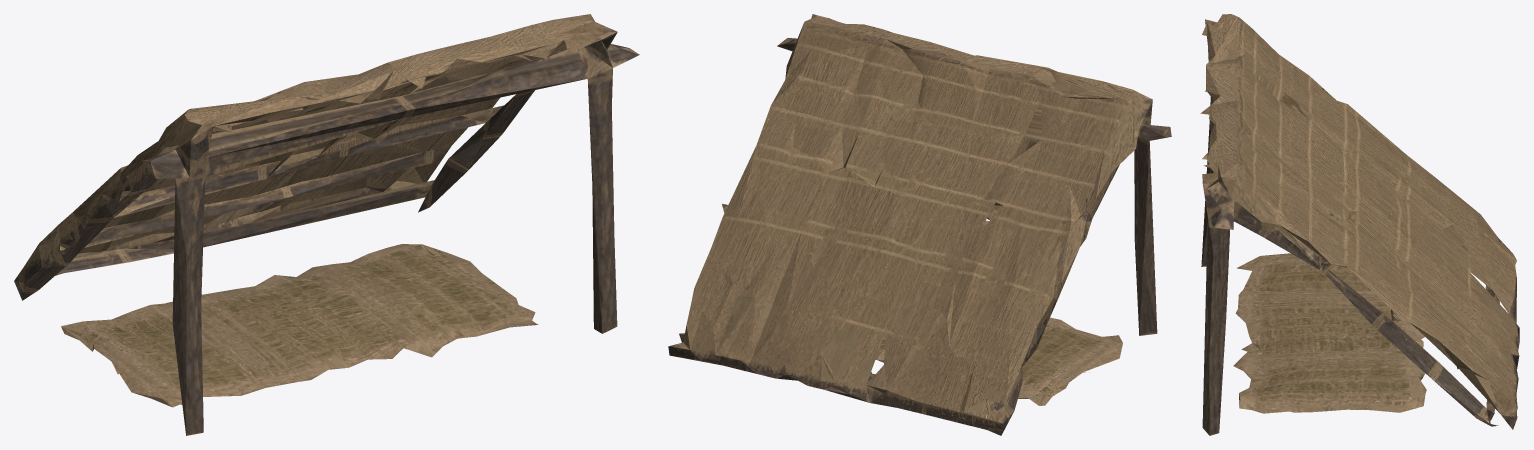
Rendered from lean_to.fbx.
3 views of the same model, side by side, from view 1: azimuth 30°, elevation 25°; view 2: azimuth 150°, elevation 25°; view 3: azimuth 270°, elevation 25° (orthographic). The views are drawn at different scales.
Visible parts, largest first — view 1: output_unwrapped; view 2: output_unwrapped; view 3: output_unwrapped.
Boxes of the visible parts, box(x1,y1,x2,y2) form: output_unwrapped: box(14, 14, 639, 435); output_unwrapped: box(668, 14, 1171, 435); output_unwrapped: box(1200, 14, 1519, 435).
Size of the model in its own units: 189 by 115 by 129.
Materials: 1 (1 with a texture image).
